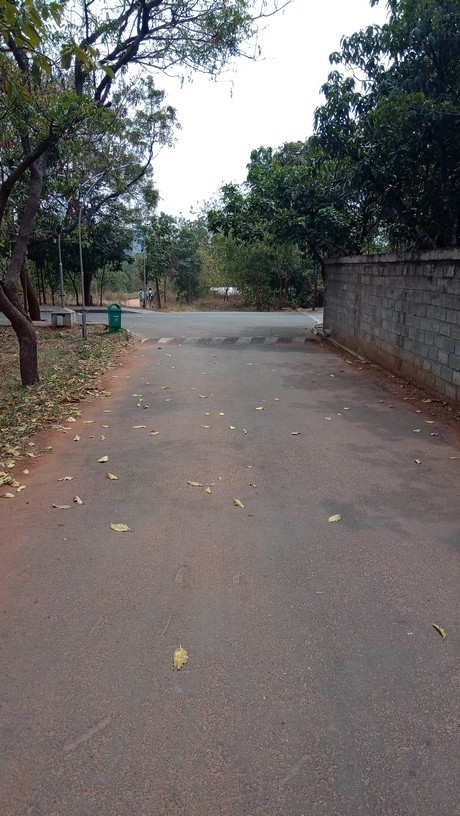bump: (124, 332, 324, 350)
